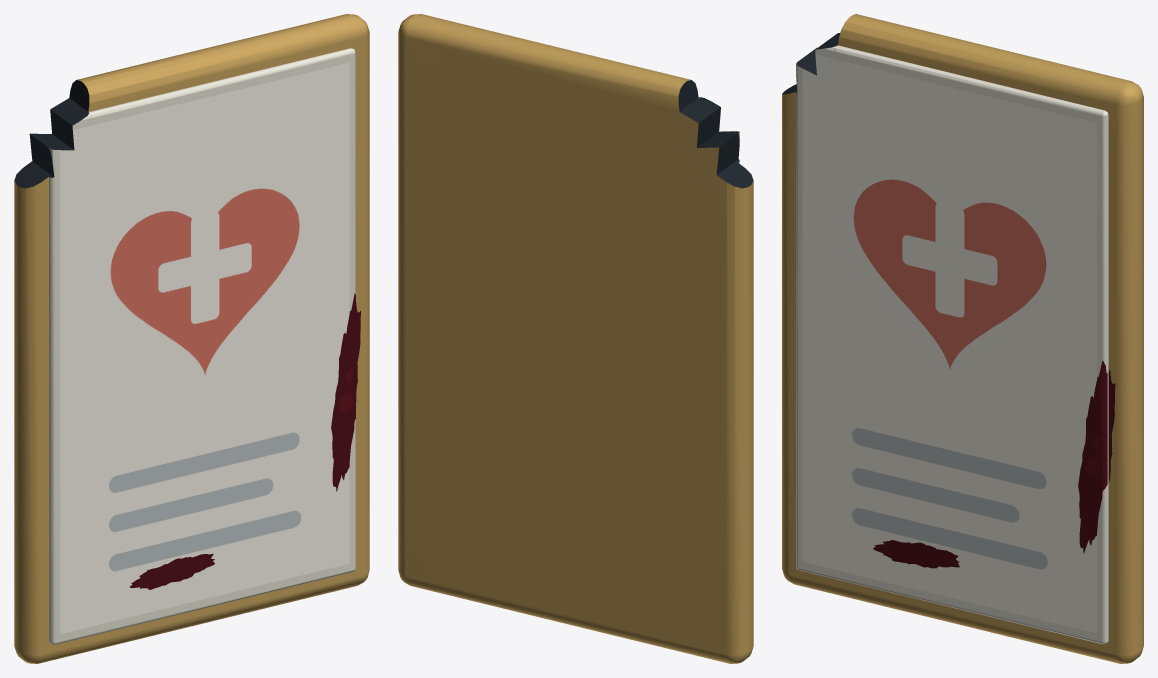
Rendered from reception_poster_heart.glb.
The picture shows the model from 3 angles, left to right: view 1: azimuth 30°, elevation 25°; view 2: azimuth 150°, elevation 25°; view 3: azimuth 330°, elevation 25°; orthographic projection.
Parts seen in each view (by area): view 1: reception_poster_heart_Outbreak_Static; view 2: reception_poster_heart_Outbreak_Static; view 3: reception_poster_heart_Outbreak_Static.
Part boxes in pixels (x1=…): reception_poster_heart_Outbreak_Static: x1=14, y1=14, x2=369, y2=663; reception_poster_heart_Outbreak_Static: x1=398, y1=14, x2=753, y2=663; reception_poster_heart_Outbreak_Static: x1=782, y1=14, x2=1143, y2=663.
Size of the model in its own units: 0.59 by 0.92 by 0.0668.
5 materials, 1 textured.
